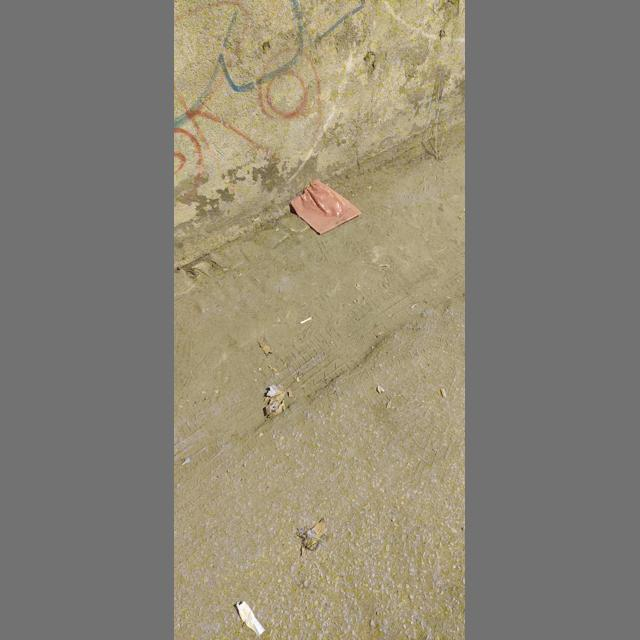litter: (291, 180, 362, 235), (236, 601, 265, 637), (300, 317, 312, 324), (441, 388, 447, 398)
